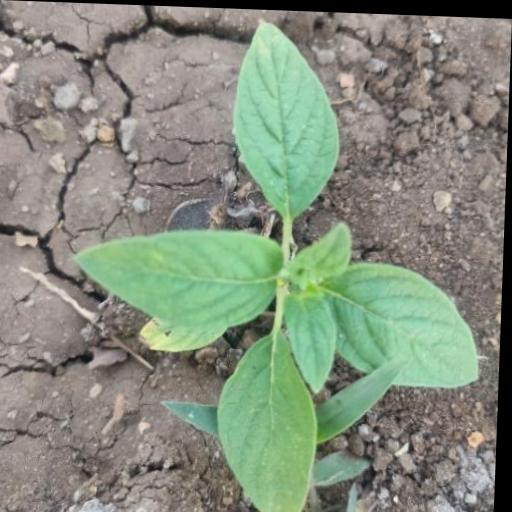crop: (62, 8, 494, 512)
